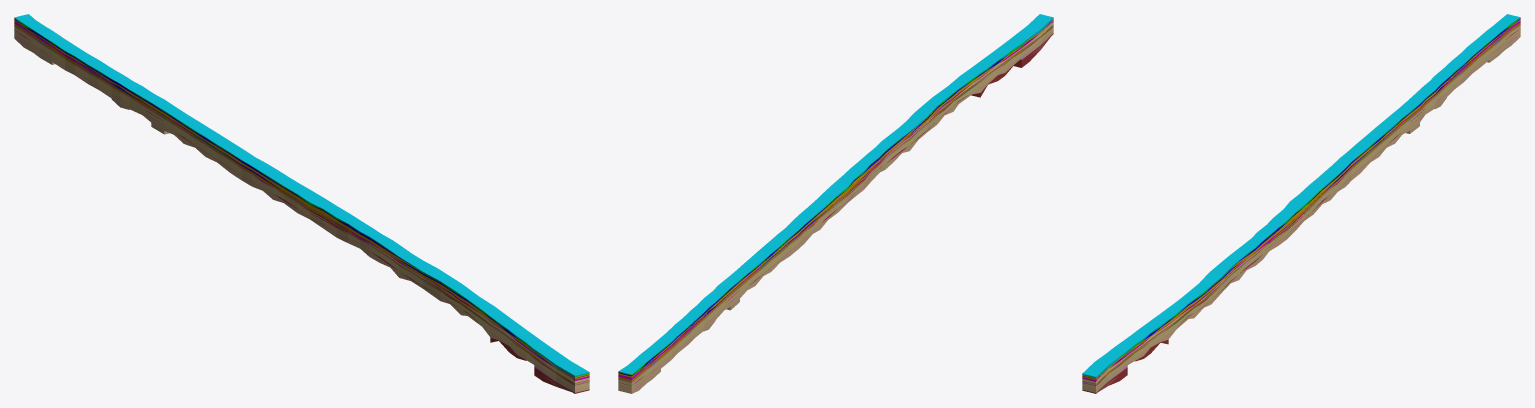
3 renders of one model, left to right at view 1: azimuth 30°, elevation 25°; view 2: azimuth 150°, elevation 25°; view 3: azimuth 330°, elevation 25°, orthographic. The views are drawn at different scales.
Bounding box in the file's own units: 0.171 × 0.0649 × 2.21.
